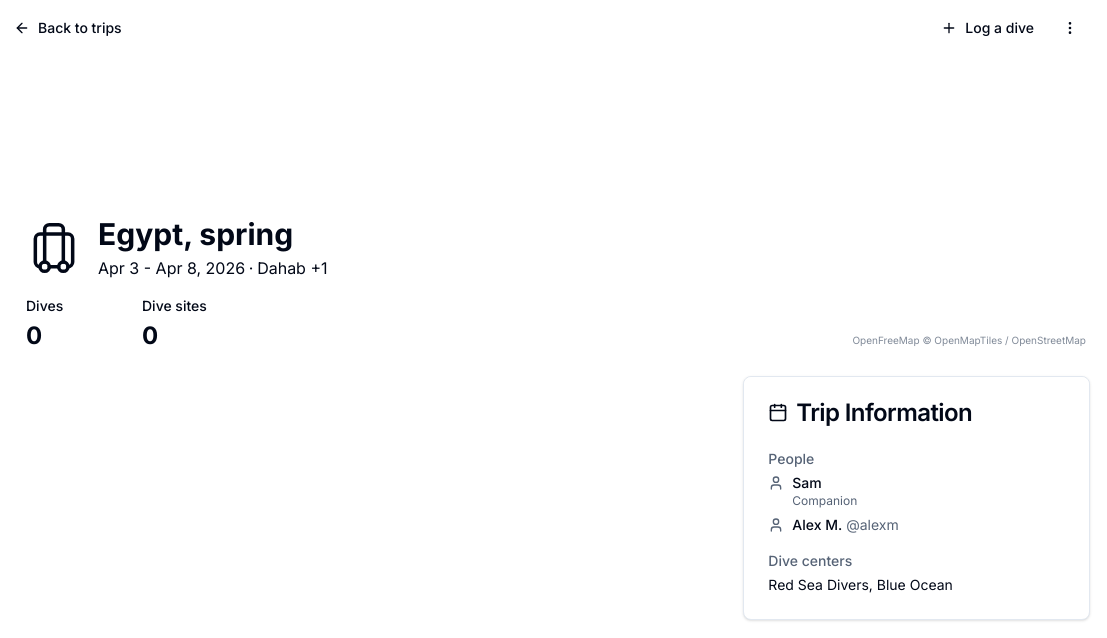
Test case: TripDetailPage › keeps every action reachable from the hero's top row
Check: the heading "Egypt, spring" is shown, box [98,216,293,252]
Check: the button "Edit" is not shown
Click the button named "More actions".
click(1070, 28)  # box [1050,10,1090,46]
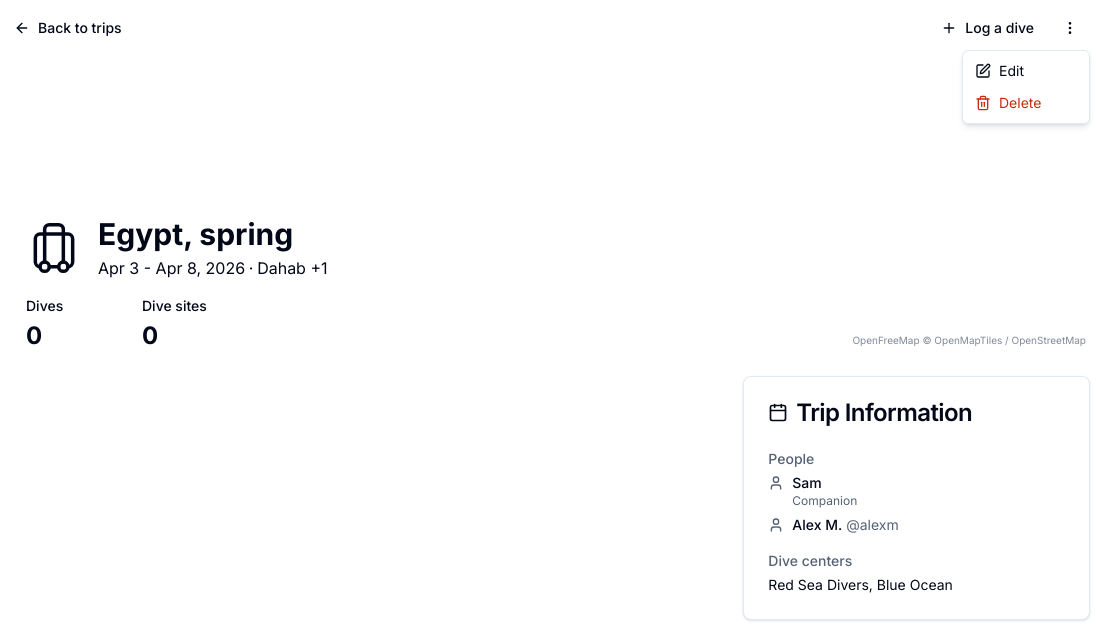
Check: the menu item "Edit" is shown, box [975,62,1024,79]
Check: the menu item "Delete" is shown, box [975,94,1041,111]
